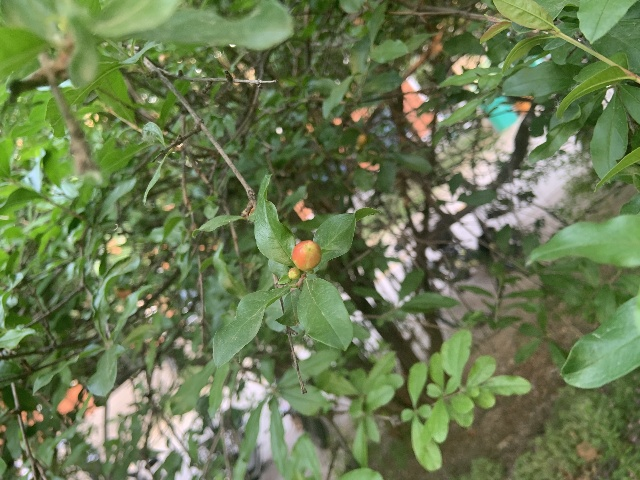bud: (292, 239, 321, 271), (287, 267, 300, 280)
